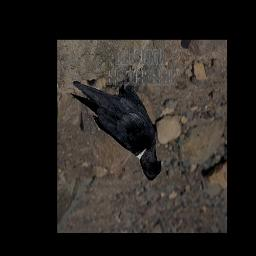Crow: (70, 61, 165, 181)
